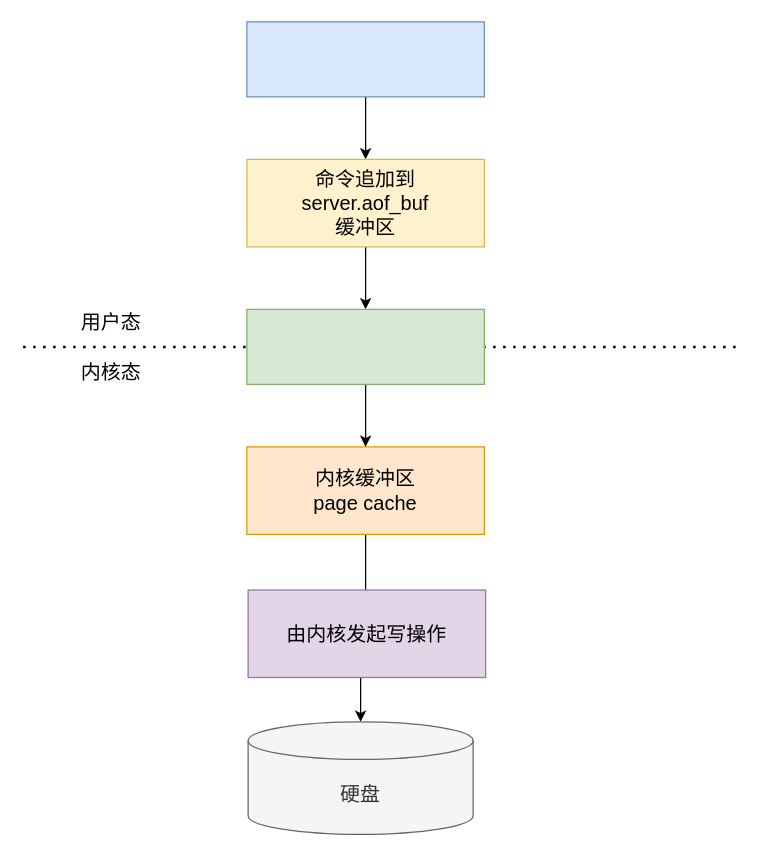
Some shapes in this 759 by 856 pixel diagram are drawn without their labels. The shapes that lost their labels are listed below. From the top down, each one's centre as x and y in pixels, then its label:
(365,59): 执行写操作命令
(365,346): I/O 系统调用 write()
